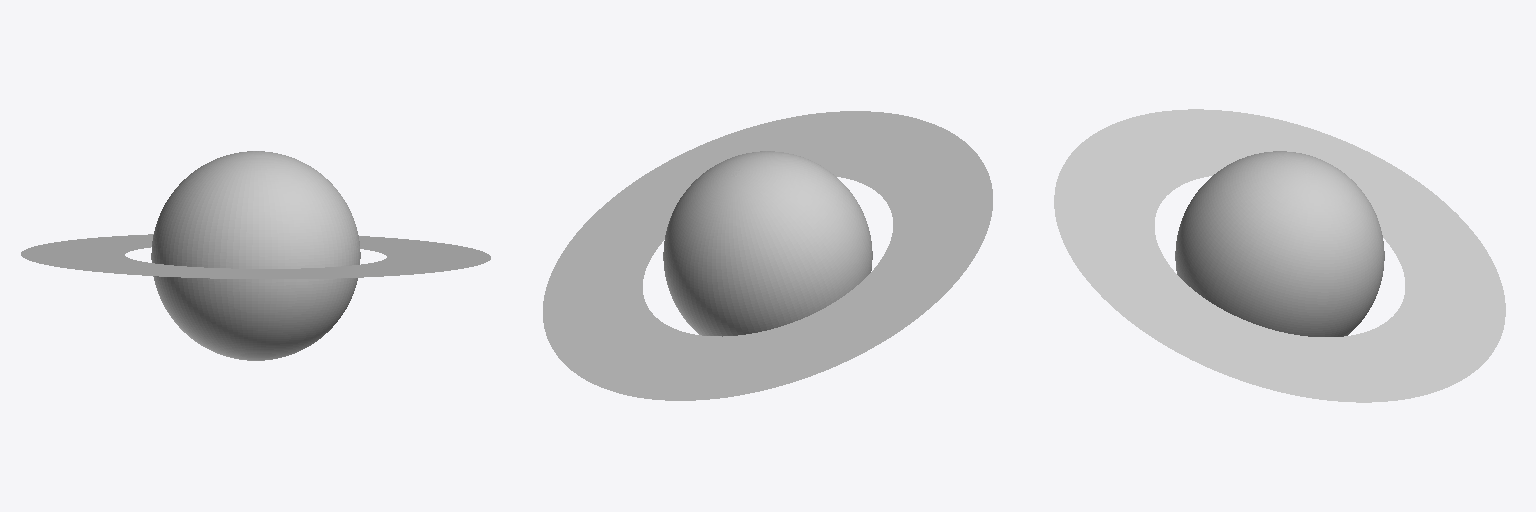
The model's file is saturn.obj.
3 renders of one model, left to right at view 1: azimuth 30°, elevation 25°; view 2: azimuth 150°, elevation 25°; view 3: azimuth 270°, elevation 25°, orthographic.
Visible parts, largest first — view 1: Saturn_Sphere.006, Ring_Circle.001; view 2: Ring_Circle.001, Saturn_Sphere.006; view 3: Ring_Circle.001, Saturn_Sphere.006.
Part boxes in pixels (bbox=[...]): Saturn_Sphere.006: bbox=[151, 151, 360, 360]; Ring_Circle.001: bbox=[21, 234, 490, 278]; Ring_Circle.001: bbox=[543, 111, 992, 400]; Saturn_Sphere.006: bbox=[663, 151, 872, 336]; Ring_Circle.001: bbox=[1054, 109, 1505, 402]; Saturn_Sphere.006: bbox=[1175, 151, 1384, 336].
Size of the model in its own units: 4.42 by 2 by 4.3.